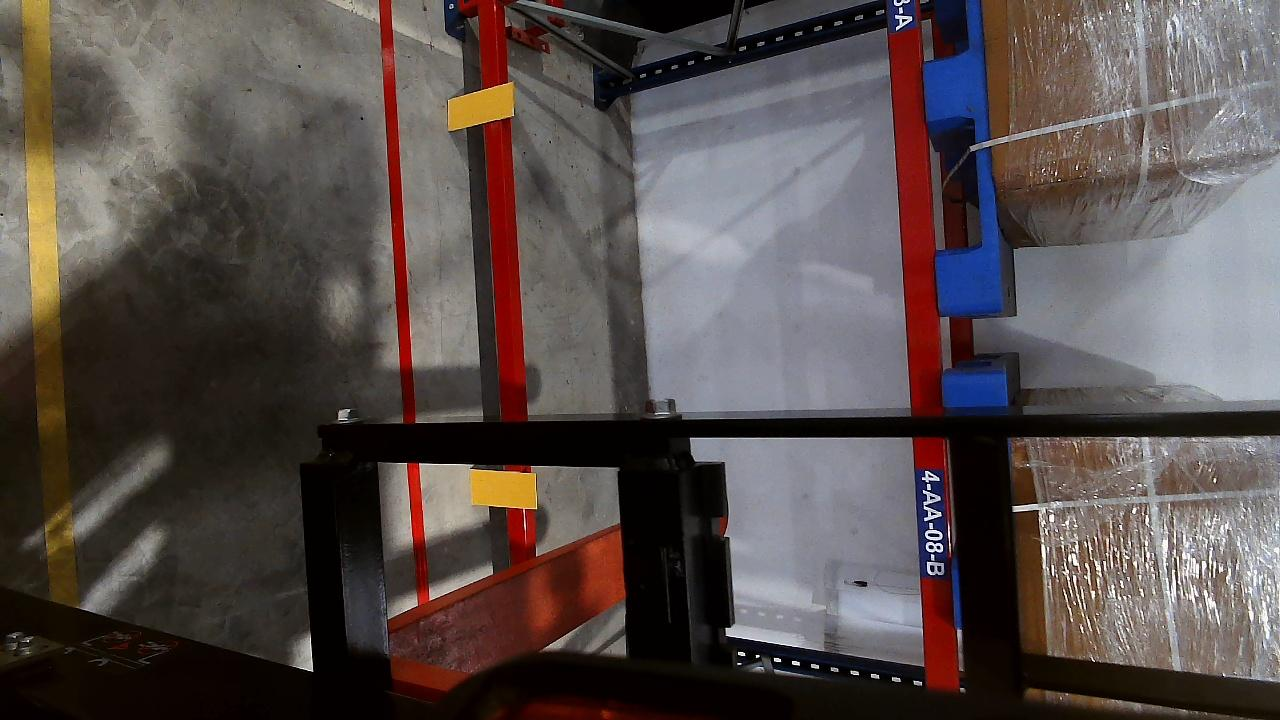h_rack: (882, 2, 944, 683), (472, 4, 525, 418)
orange_strip: (445, 83, 515, 129), (470, 469, 536, 509)
red_line: (378, 0, 416, 434)
small_pallet: (917, 0, 1007, 309)
yellow_line: (17, 0, 75, 605)
